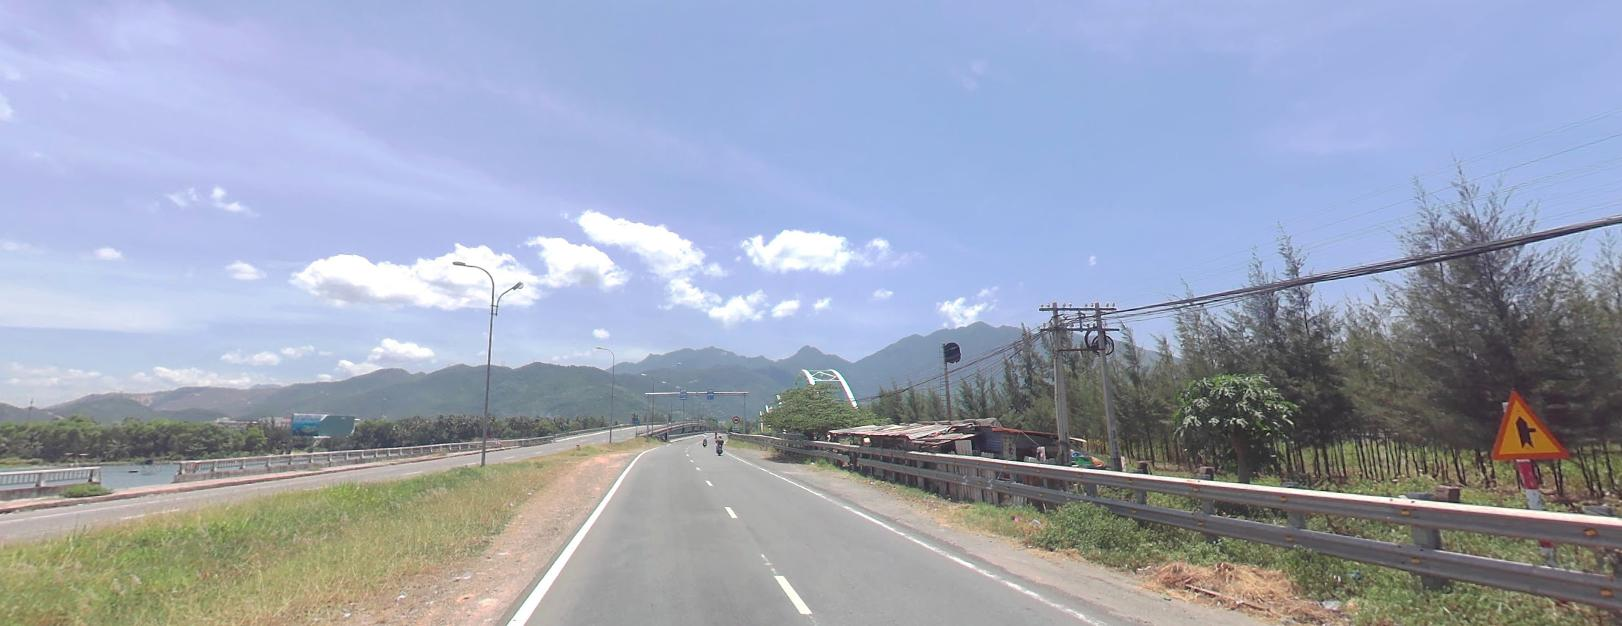Nguy hiem: (1476, 375, 1571, 476)
